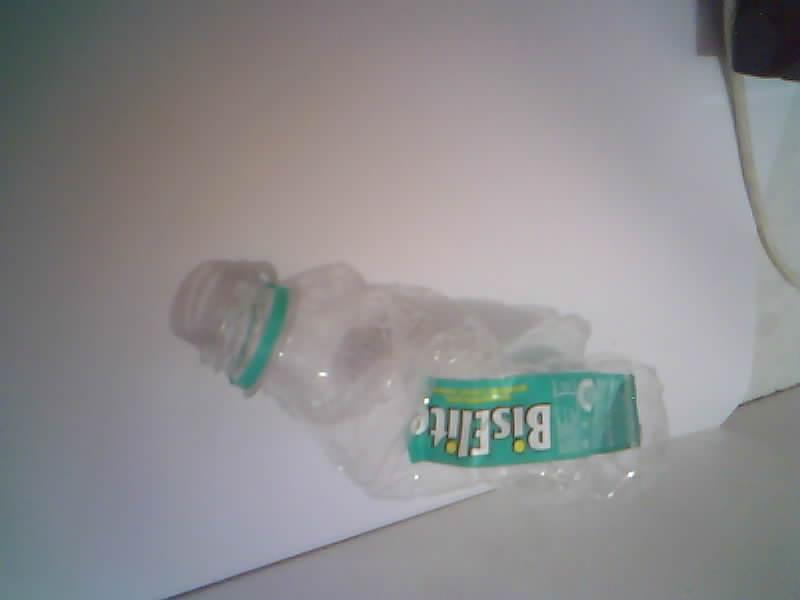non-biodegradable: (203, 265, 664, 498)
